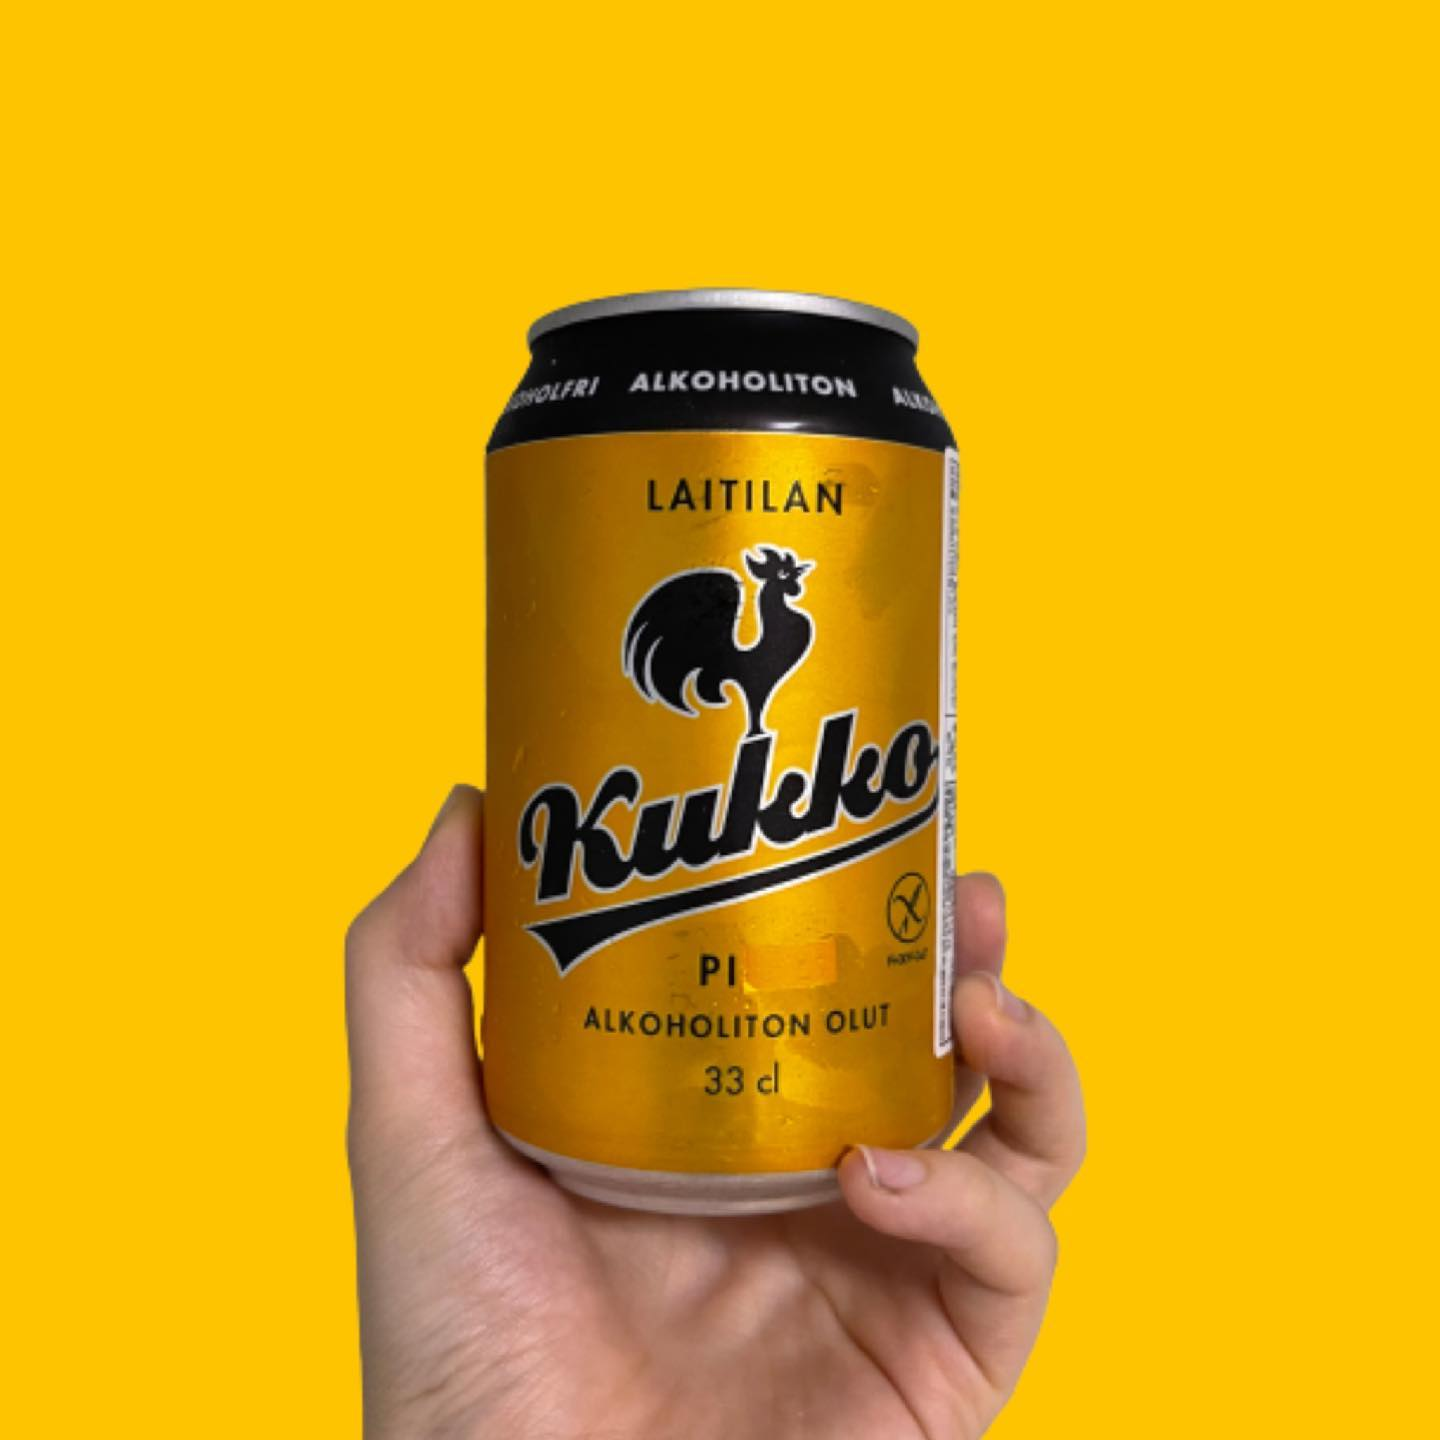alcohol: (465, 280, 971, 1230)
